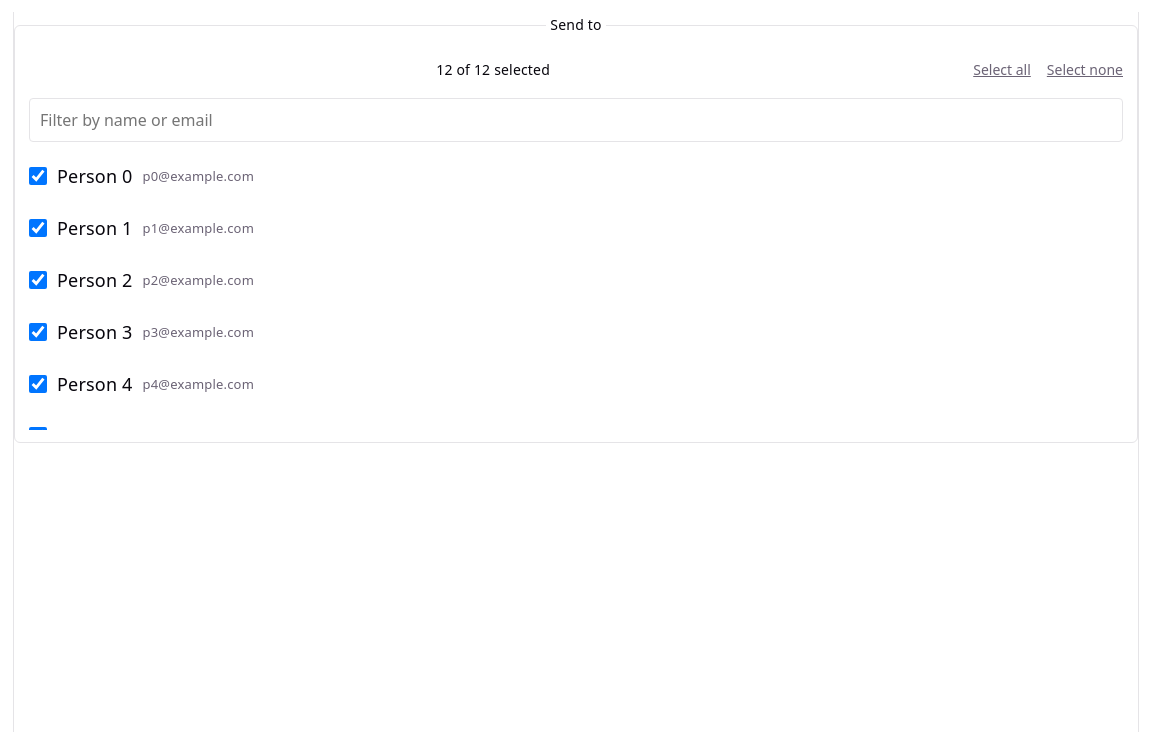
it: AnnouncementRecipients › says when the filter matches nobody
Type "zzz" into the search field named "Filter recipients" at (576, 120), box top-left (29, 98), bottom-right (1123, 142)
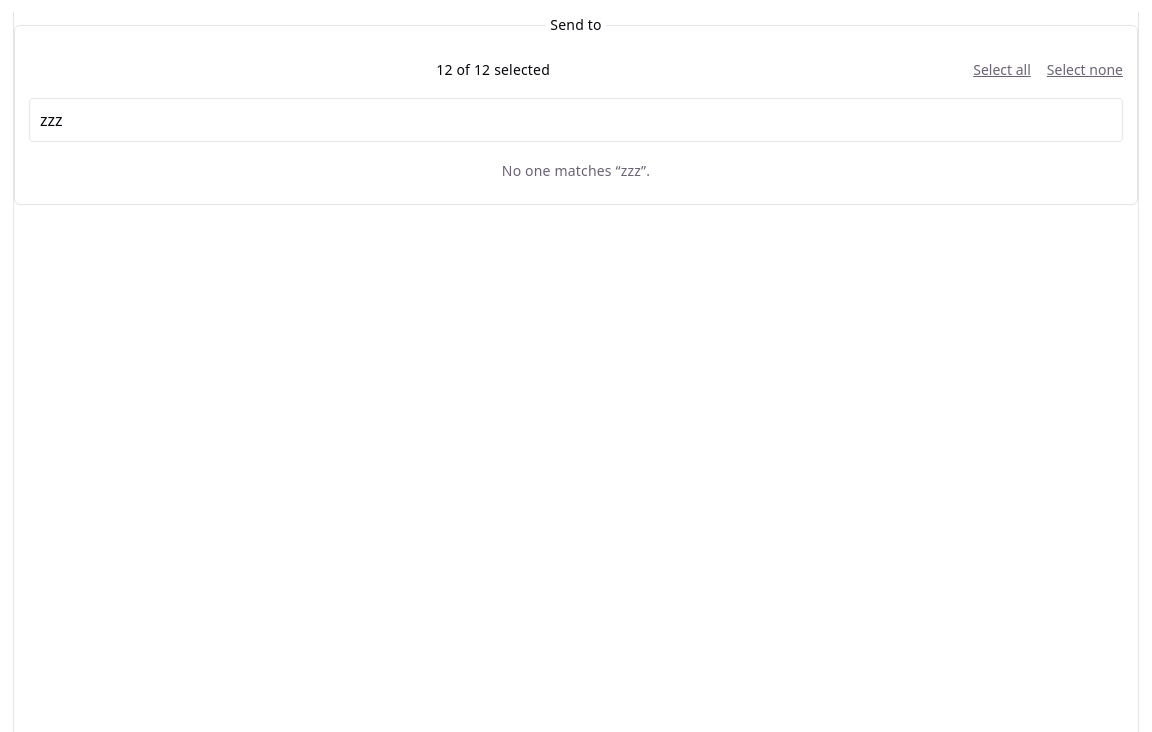
Now the list item "No one matches “zzz”." is shown, box top-left (502, 161), bottom-right (650, 180)
